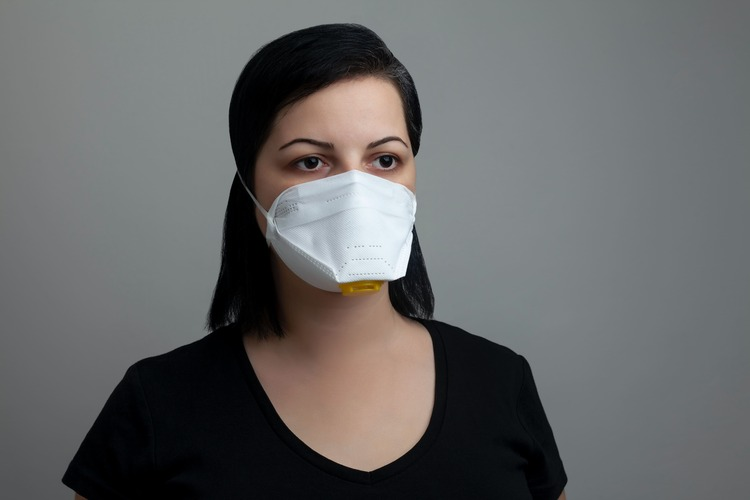with_mask: (264, 125, 419, 292)
